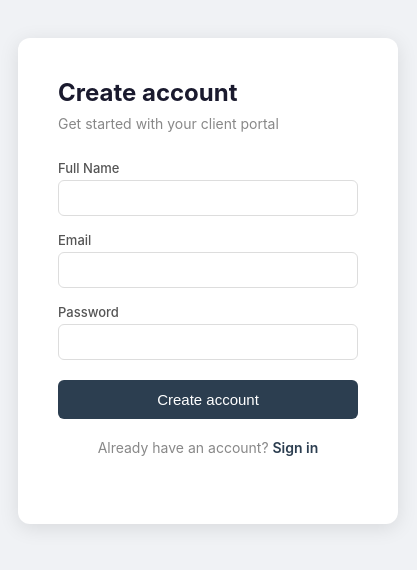
Test: Register › clears error when user starts typing
In the field labelled "Full Name": (208, 198) x1=58 y1=180 x2=358 y2=216, type "Jan Novak"
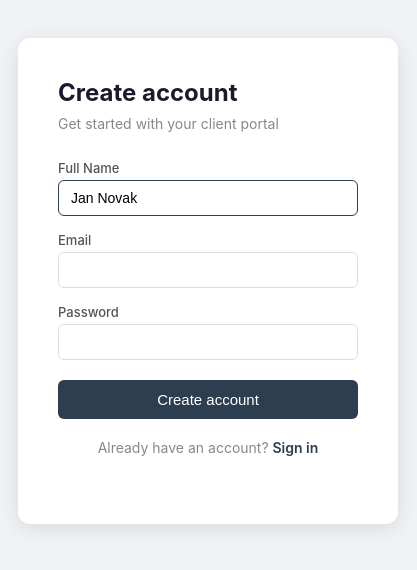
In the field labelled "Email": (208, 270) x1=58 y1=252 x2=358 y2=288, type "jan@example.com"
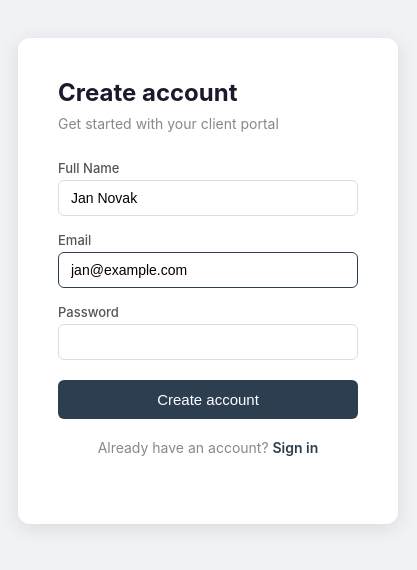
In the password field labelled "Password": (208, 342) x1=58 y1=324 x2=358 y2=360, type "password123"
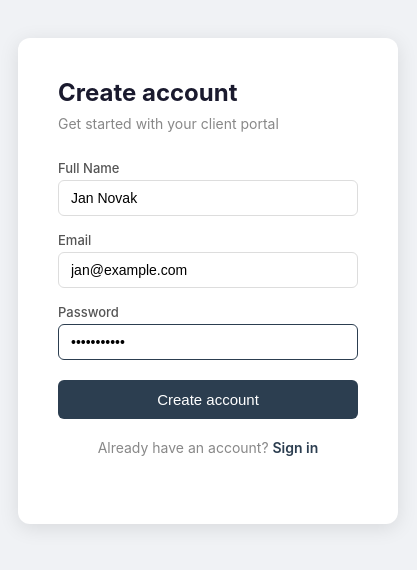
Click the button "Create account": (208, 400) x1=58 y1=380 x2=358 y2=419
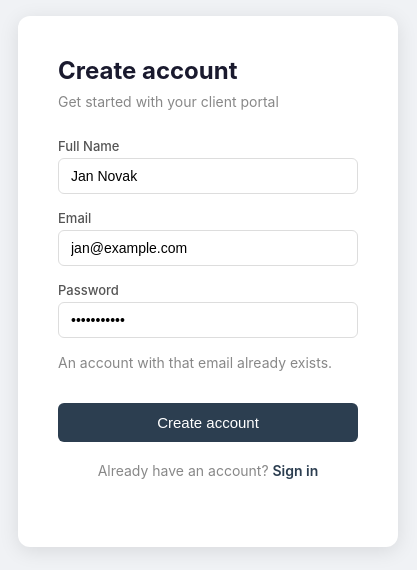
Result: the text "An account with that email already exists." is shown at x1=58 y1=354 x2=358 y2=370
In the field labelled "Email": (208, 248) x1=58 y1=230 x2=358 y2=266, type "x"
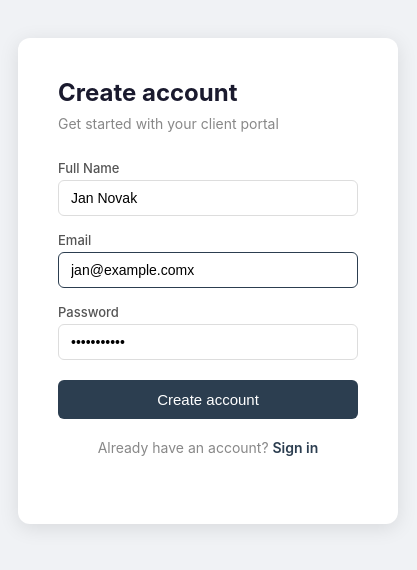
Result: the text "An account with that email already exists." is gone
